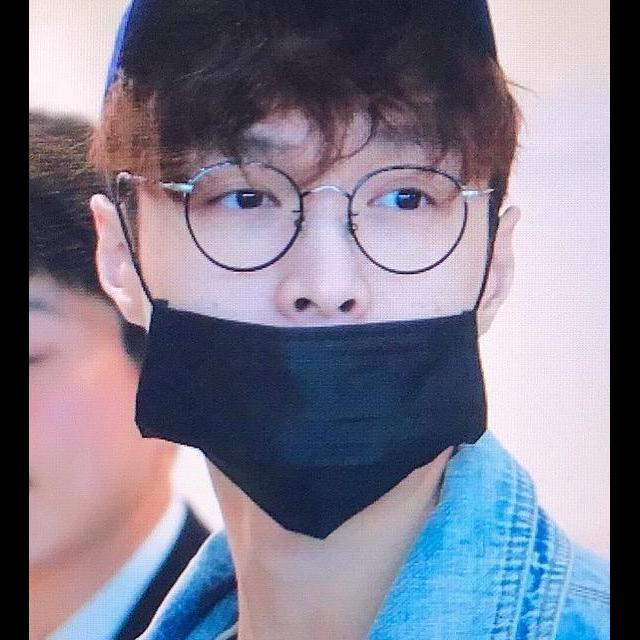Mask: (113, 229, 495, 546)
NO-Hardhat: (108, 0, 507, 184), (30, 100, 109, 302)
NO-Mask: (30, 393, 163, 567)
NO-Safety Vest: (102, 568, 610, 640)
Person: (106, 0, 609, 640), (29, 94, 221, 640)
